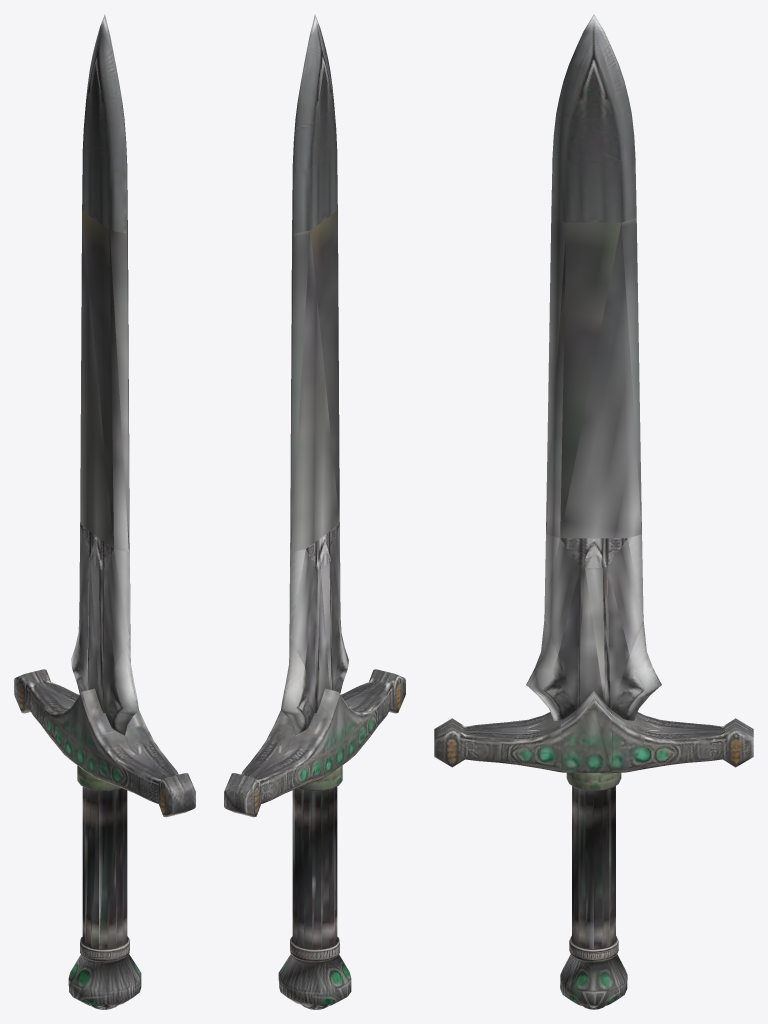
Rendered from oath_sword.glb.
3 renders of one model, left to right at view 1: azimuth 30°, elevation 25°; view 2: azimuth 150°, elevation 25°; view 3: azimuth 270°, elevation 25°, orthographic.
Visible parts, largest first — view 1: Mesh_0; view 2: Mesh_0; view 3: Mesh_0.
Part boxes in pixels (x1=…): Mesh_0: x1=14, y1=14, x2=195, y2=1009; Mesh_0: x1=224, y1=14, x2=405, y2=1009; Mesh_0: x1=434, y1=14, x2=753, y2=1009.
Bounding box in the file's own units: 0.0816 × 1.2 × 0.3499.
1 material, 1 textured.
